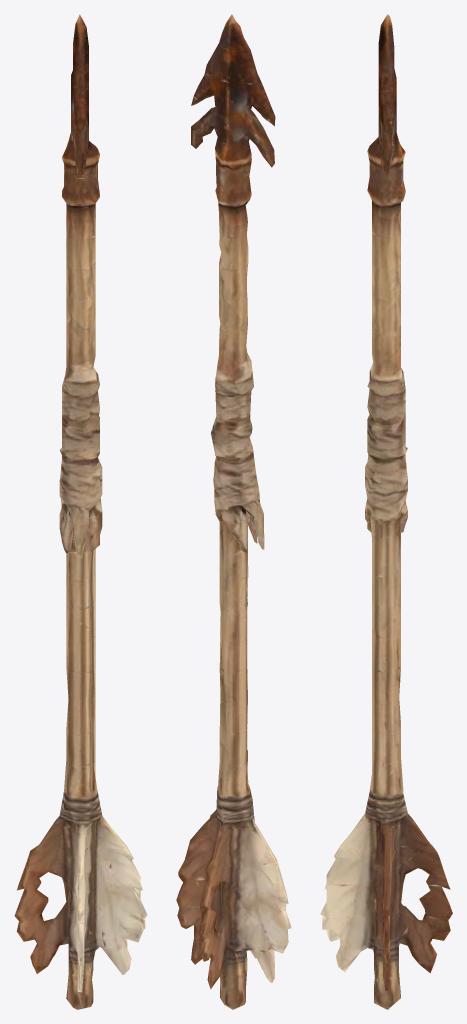
The model's file is arrow.glb.
3 views of the same model, side by side, from view 1: azimuth 90°, elevation 25°; view 2: azimuth 150°, elevation 25°; view 3: azimuth 270°, elevation 25° (orthographic).
Size of the model in its own units: 0.2309 by 1.91 by 0.2309.
Materials: 1 (1 with a texture image).
